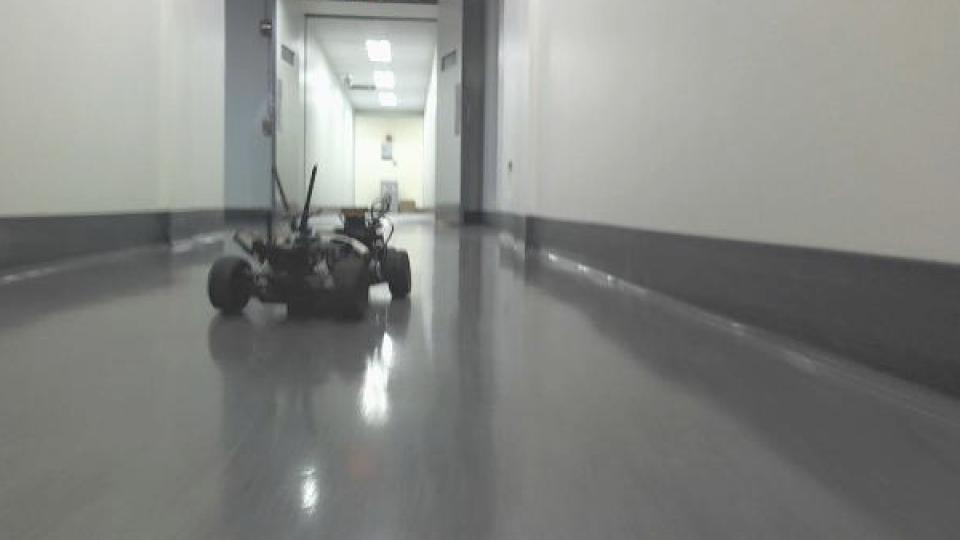car: (205, 160, 416, 324)
